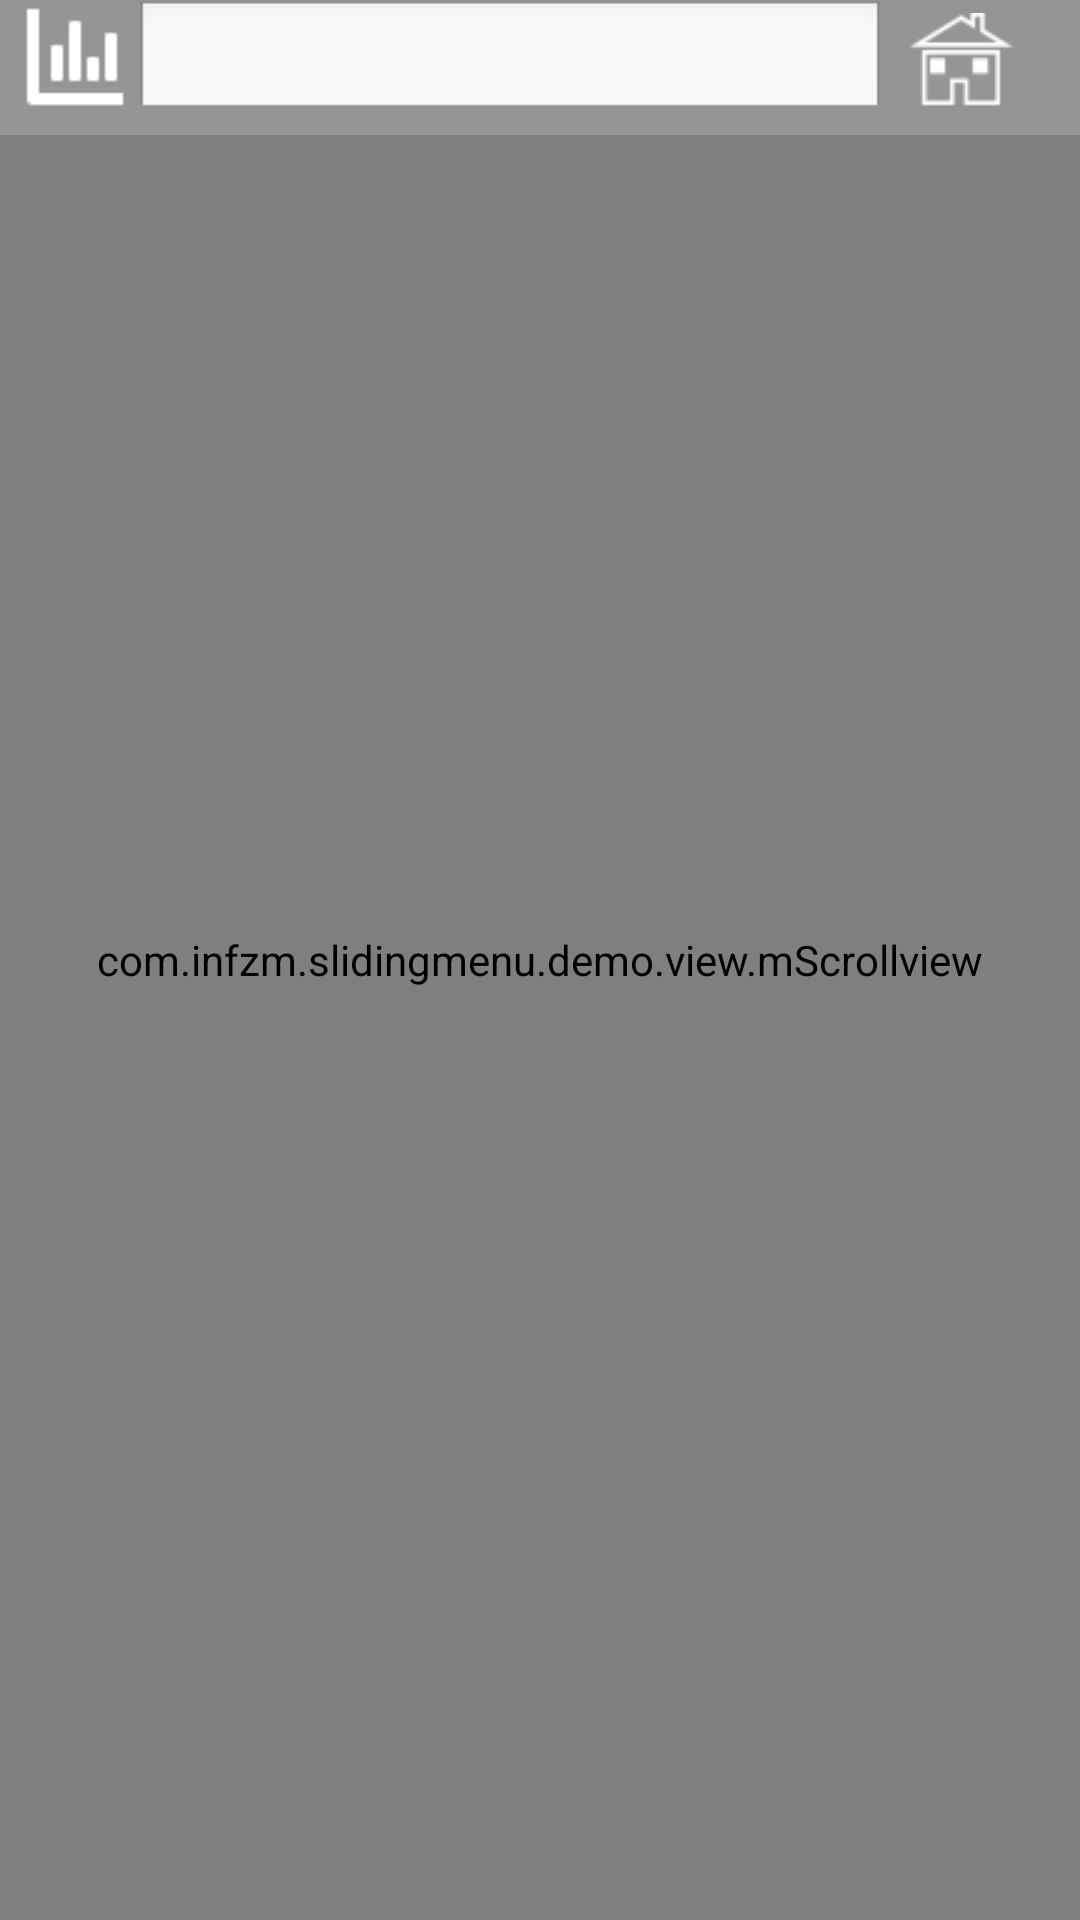

Where to tap for icons on this 1080x1920 app screen, as (x=x, y=y):
home: (x=961, y=59)
